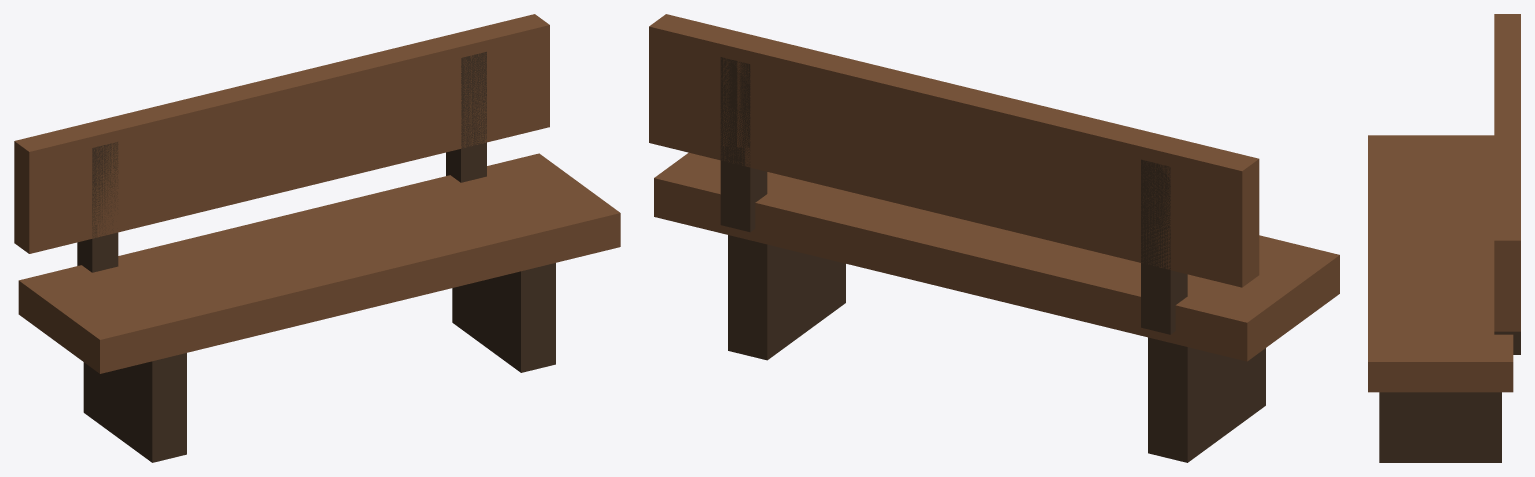
The model's file is village_bench.glb.
3 views of the same model, side by side, from view 1: azimuth 30°, elevation 25°; view 2: azimuth 150°, elevation 25°; view 3: azimuth 270°, elevation 25° (orthographic). The views are drawn at different scales.
Parts seen in each view (by area): view 1: village_bench_LOD0; view 2: village_bench_LOD0; view 3: village_bench_LOD0.
Part boxes in pixels (left/top/right/bottom): village_bench_LOD0: left=14, top=14, right=620, bottom=462; village_bench_LOD0: left=649, top=14, right=1339, bottom=462; village_bench_LOD0: left=1368, top=14, right=1520, bottom=462.
Size of what is drawn, in the model's own units: 2.4 by 1.23 by 0.685.
